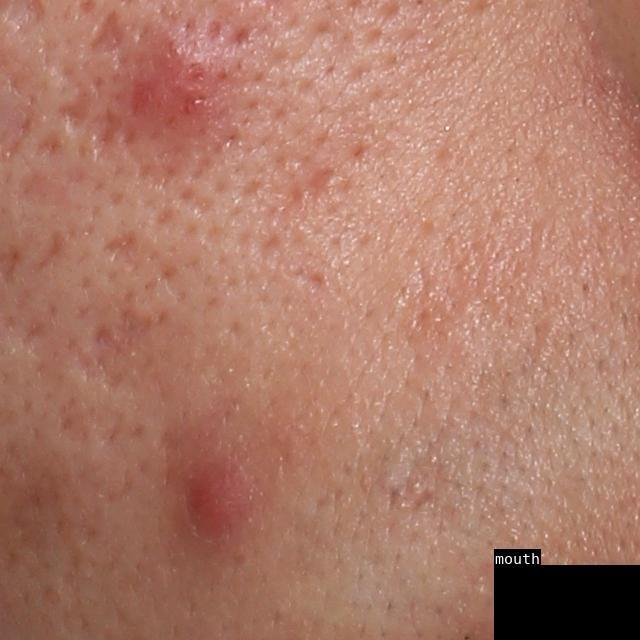atrophic_scar: (69, 306, 162, 395), (121, 95, 205, 190), (12, 170, 79, 209), (97, 226, 144, 281), (84, 105, 127, 159), (84, 8, 131, 56), (55, 83, 95, 137), (30, 226, 66, 273), (299, 160, 337, 202)
papule: (176, 453, 263, 550), (156, 47, 216, 116)
